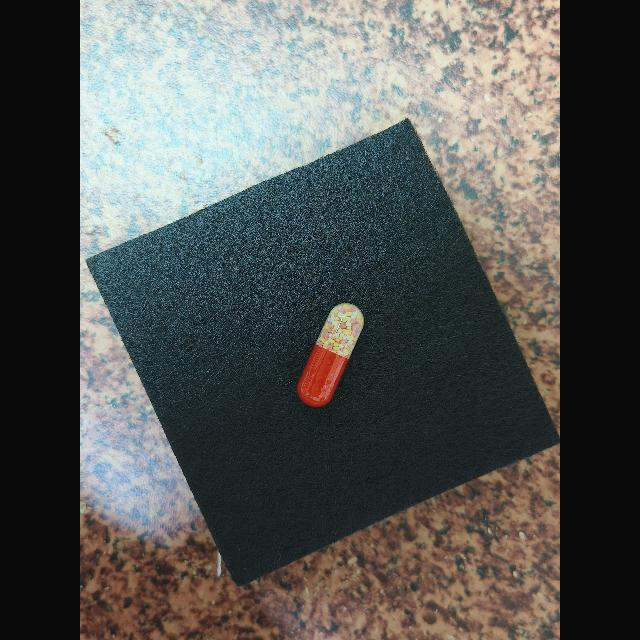Intact Capsule: (297, 303, 364, 407)
